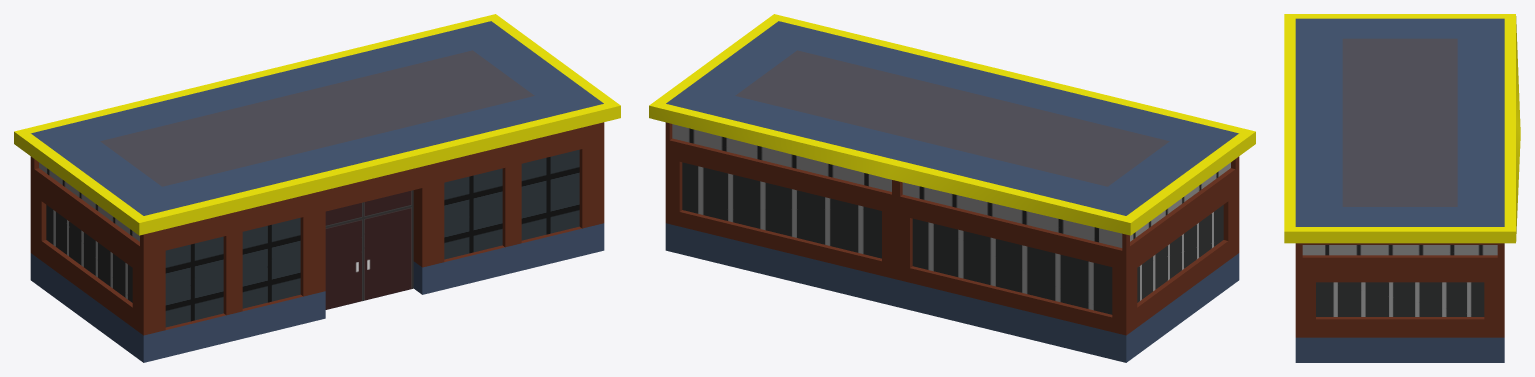
Rendered from building29b.FBX.
The picture shows the model from 3 angles, left to right: view 1: azimuth 30°, elevation 25°; view 2: azimuth 150°, elevation 25°; view 3: azimuth 270°, elevation 25°; orthographic projection. The views are drawn at different scales.
Visible parts, largest first — view 1: building29b; view 2: building29b; view 3: building29b.
Part boxes in pixels (<box>): building29b: <box>14,14,620,362</box>; building29b: <box>649,14,1255,362</box>; building29b: <box>1284,14,1520,362</box>.
Size of the model in its own units: 34.38 by 10.02 by 15.79.
